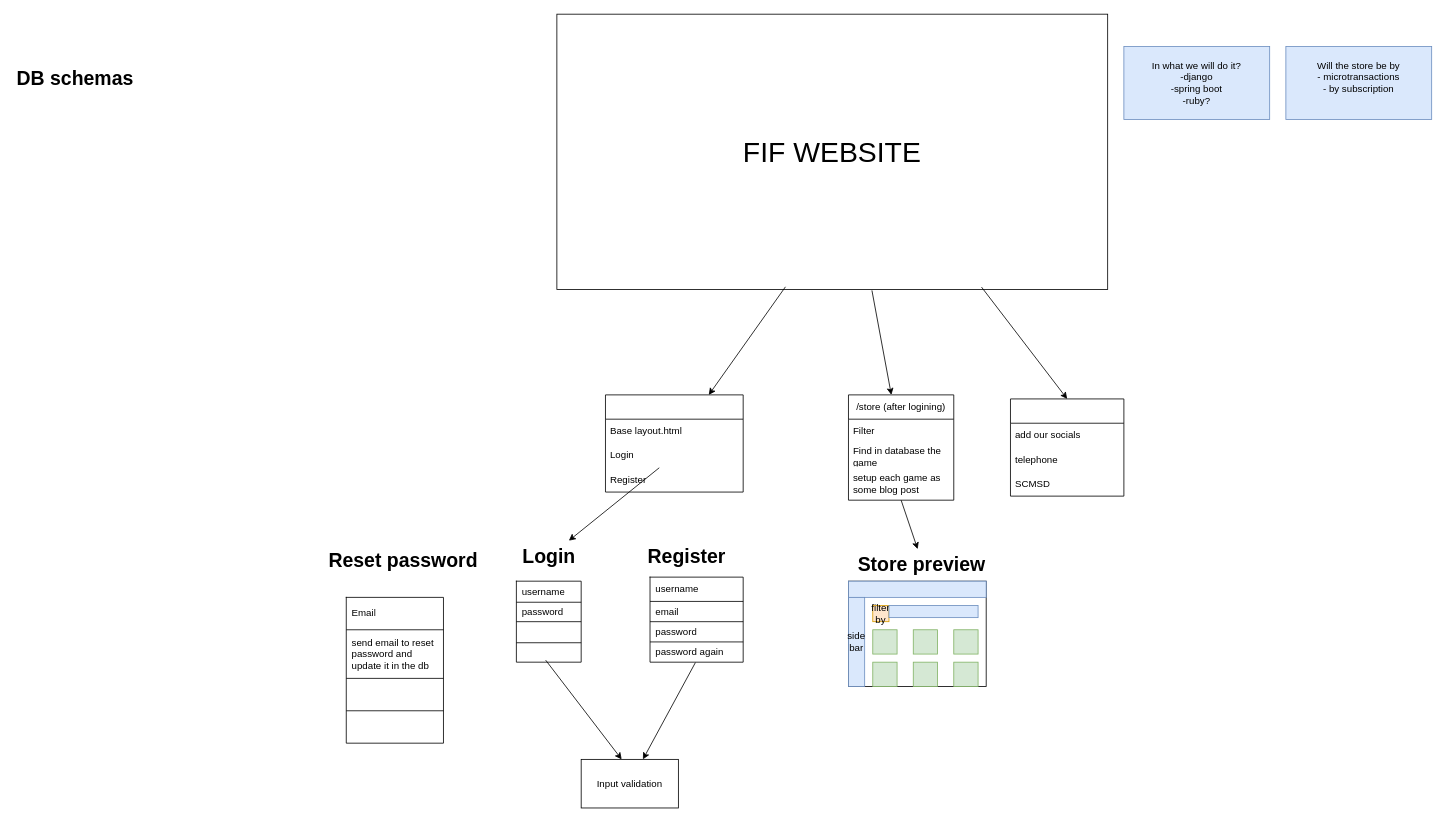
This 1446x822 diagram has some shape labels left out. The box of each missing label's shape, as (x1, y1, x2, y2) in pixels:
/ (home): (605, 394, 743, 492)
/contact (kontakt page): (1010, 398, 1124, 496)
Hledat: (888, 605, 978, 618)
nav bar: (848, 580, 986, 597)
